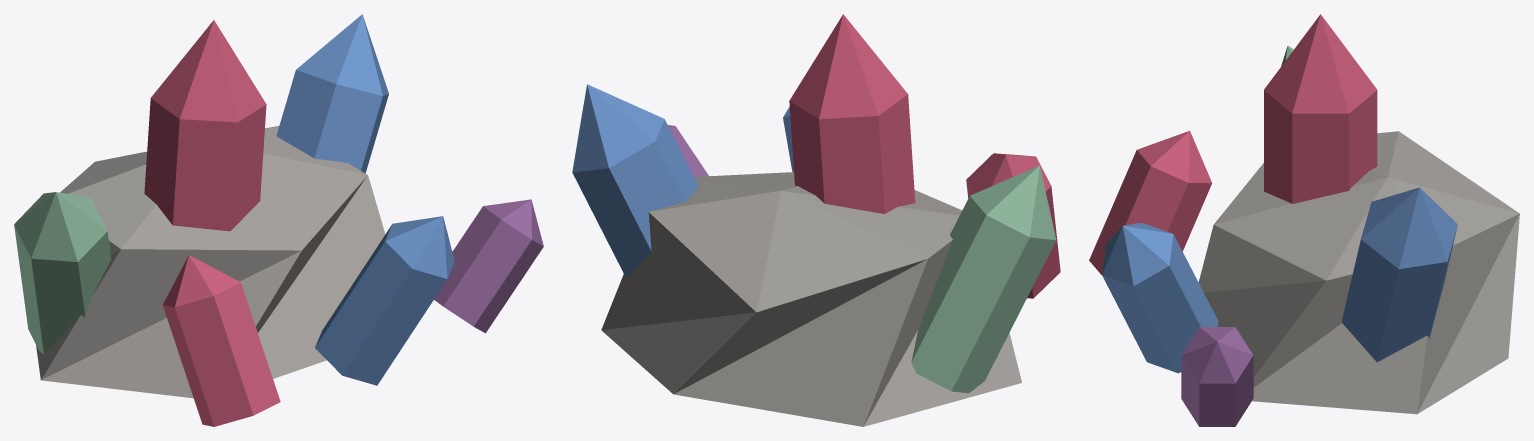
The model's file is gems.glb.
3 views of the same model, side by side, from view 1: azimuth 30°, elevation 25°; view 2: azimuth 150°, elevation 25°; view 3: azimuth 270°, elevation 25° (orthographic). The views are drawn at different scales.
Visible parts, largest first — view 1: LOD0; view 2: LOD0; view 3: LOD0.
Boxes of the visible parts, box(x1,y1,x2,y2) form: LOD0: box(14, 14, 543, 426); LOD0: box(572, 14, 1060, 426); LOD0: box(1089, 14, 1519, 426).
Size of what is drawn, in the model's own units: 0.6083 by 0.4035 by 0.5006.
